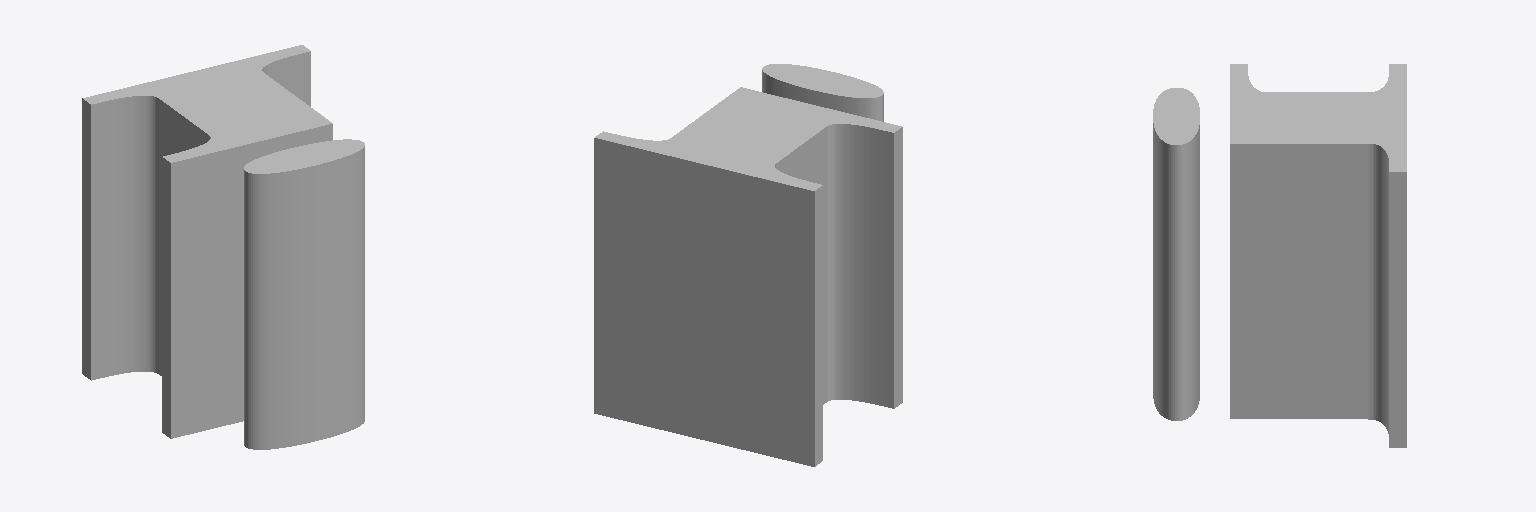
3 renders of one model, left to right at view 1: azimuth 30°, elevation 25°; view 2: azimuth 150°, elevation 25°; view 3: azimuth 270°, elevation 25°, orthographic.
Visible parts, largest first — view 1: obj_0; view 2: obj_0; view 3: obj_0.
Part boxes in pixels (x1,y1,x2,y2): obj_0: (82, 45, 364, 449); obj_0: (594, 64, 902, 466); obj_0: (1153, 64, 1406, 447).
Bounding box in the file's own units: 5 × 5.99 × 5.